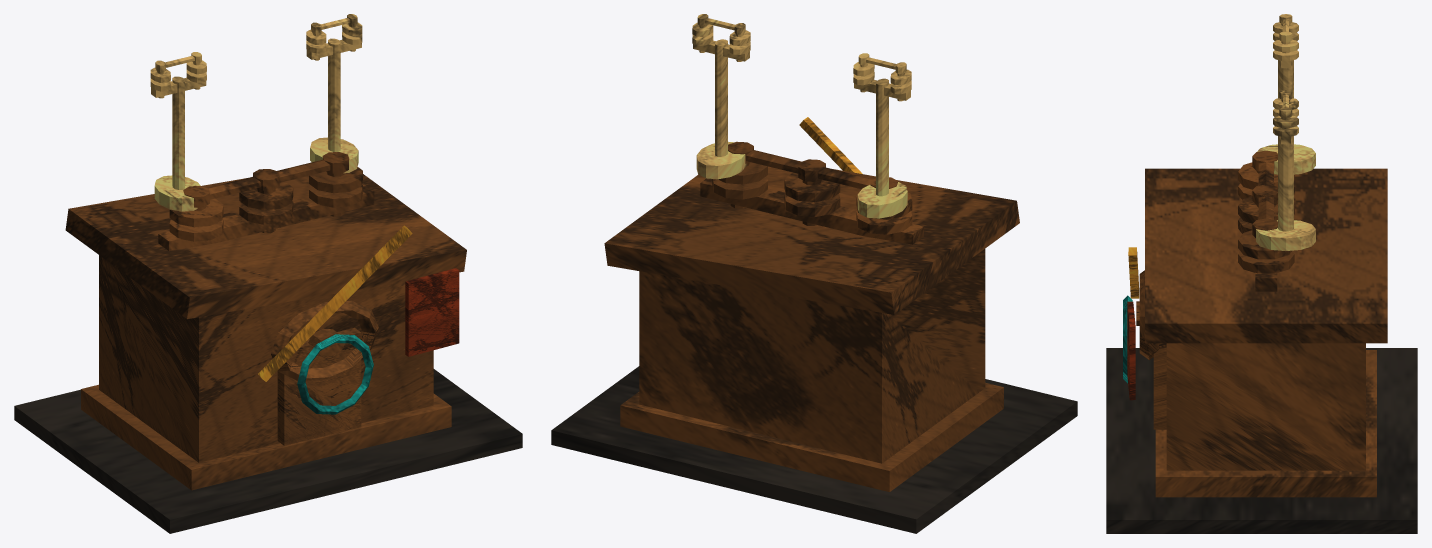
File: trunk-line-breaker-shelter.glb
3 renders of one model, left to right at view 1: azimuth 30°, elevation 25°; view 2: azimuth 150°, elevation 25°; view 3: azimuth 270°, elevation 25°, orthographic. The views are drawn at different scales.
Visible parts, largest first — view 1: trunk-line-breaker-shelter; view 2: trunk-line-breaker-shelter; view 3: trunk-line-breaker-shelter.
Boxes of the visible parts, left/top/right/bottom form: trunk-line-breaker-shelter: left=14, top=14, right=522, bottom=533; trunk-line-breaker-shelter: left=551, top=14, right=1077, bottom=533; trunk-line-breaker-shelter: left=1106, top=14, right=1417, bottom=533.
Size of the model in its own units: 6.8 by 7.1 by 5.2.
Materials: 1 (1 with a texture image).
